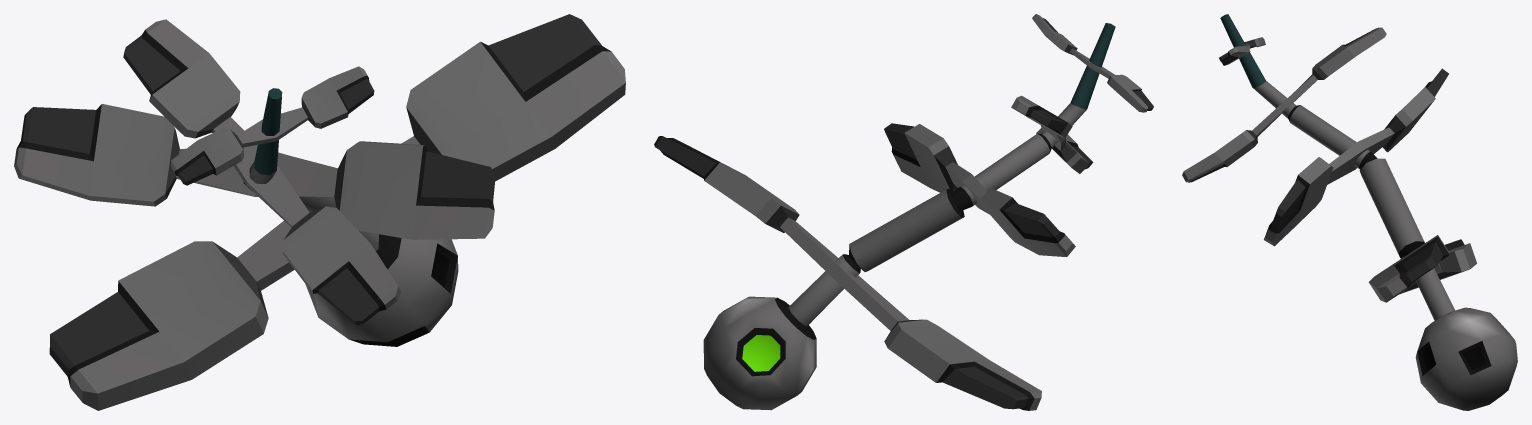
The model's file is Alien_Scrap01.fbx.
The picture shows the model from 3 angles, left to right: view 1: azimuth 30°, elevation 25°; view 2: azimuth 150°, elevation 25°; view 3: azimuth 270°, elevation 25°; orthographic projection. The views are drawn at different scales.
Visible parts, largest first — view 1: Alien_Scrap01; view 2: Alien_Scrap01; view 3: Alien_Scrap01.
Part boxes in pixels (<box>): Alien_Scrap01: <box>14,14,625,410</box>; Alien_Scrap01: <box>654,14,1153,410</box>; Alien_Scrap01: <box>1182,14,1517,410</box>.
Size of the model in its own units: 5296 by 3958 by 4053.
